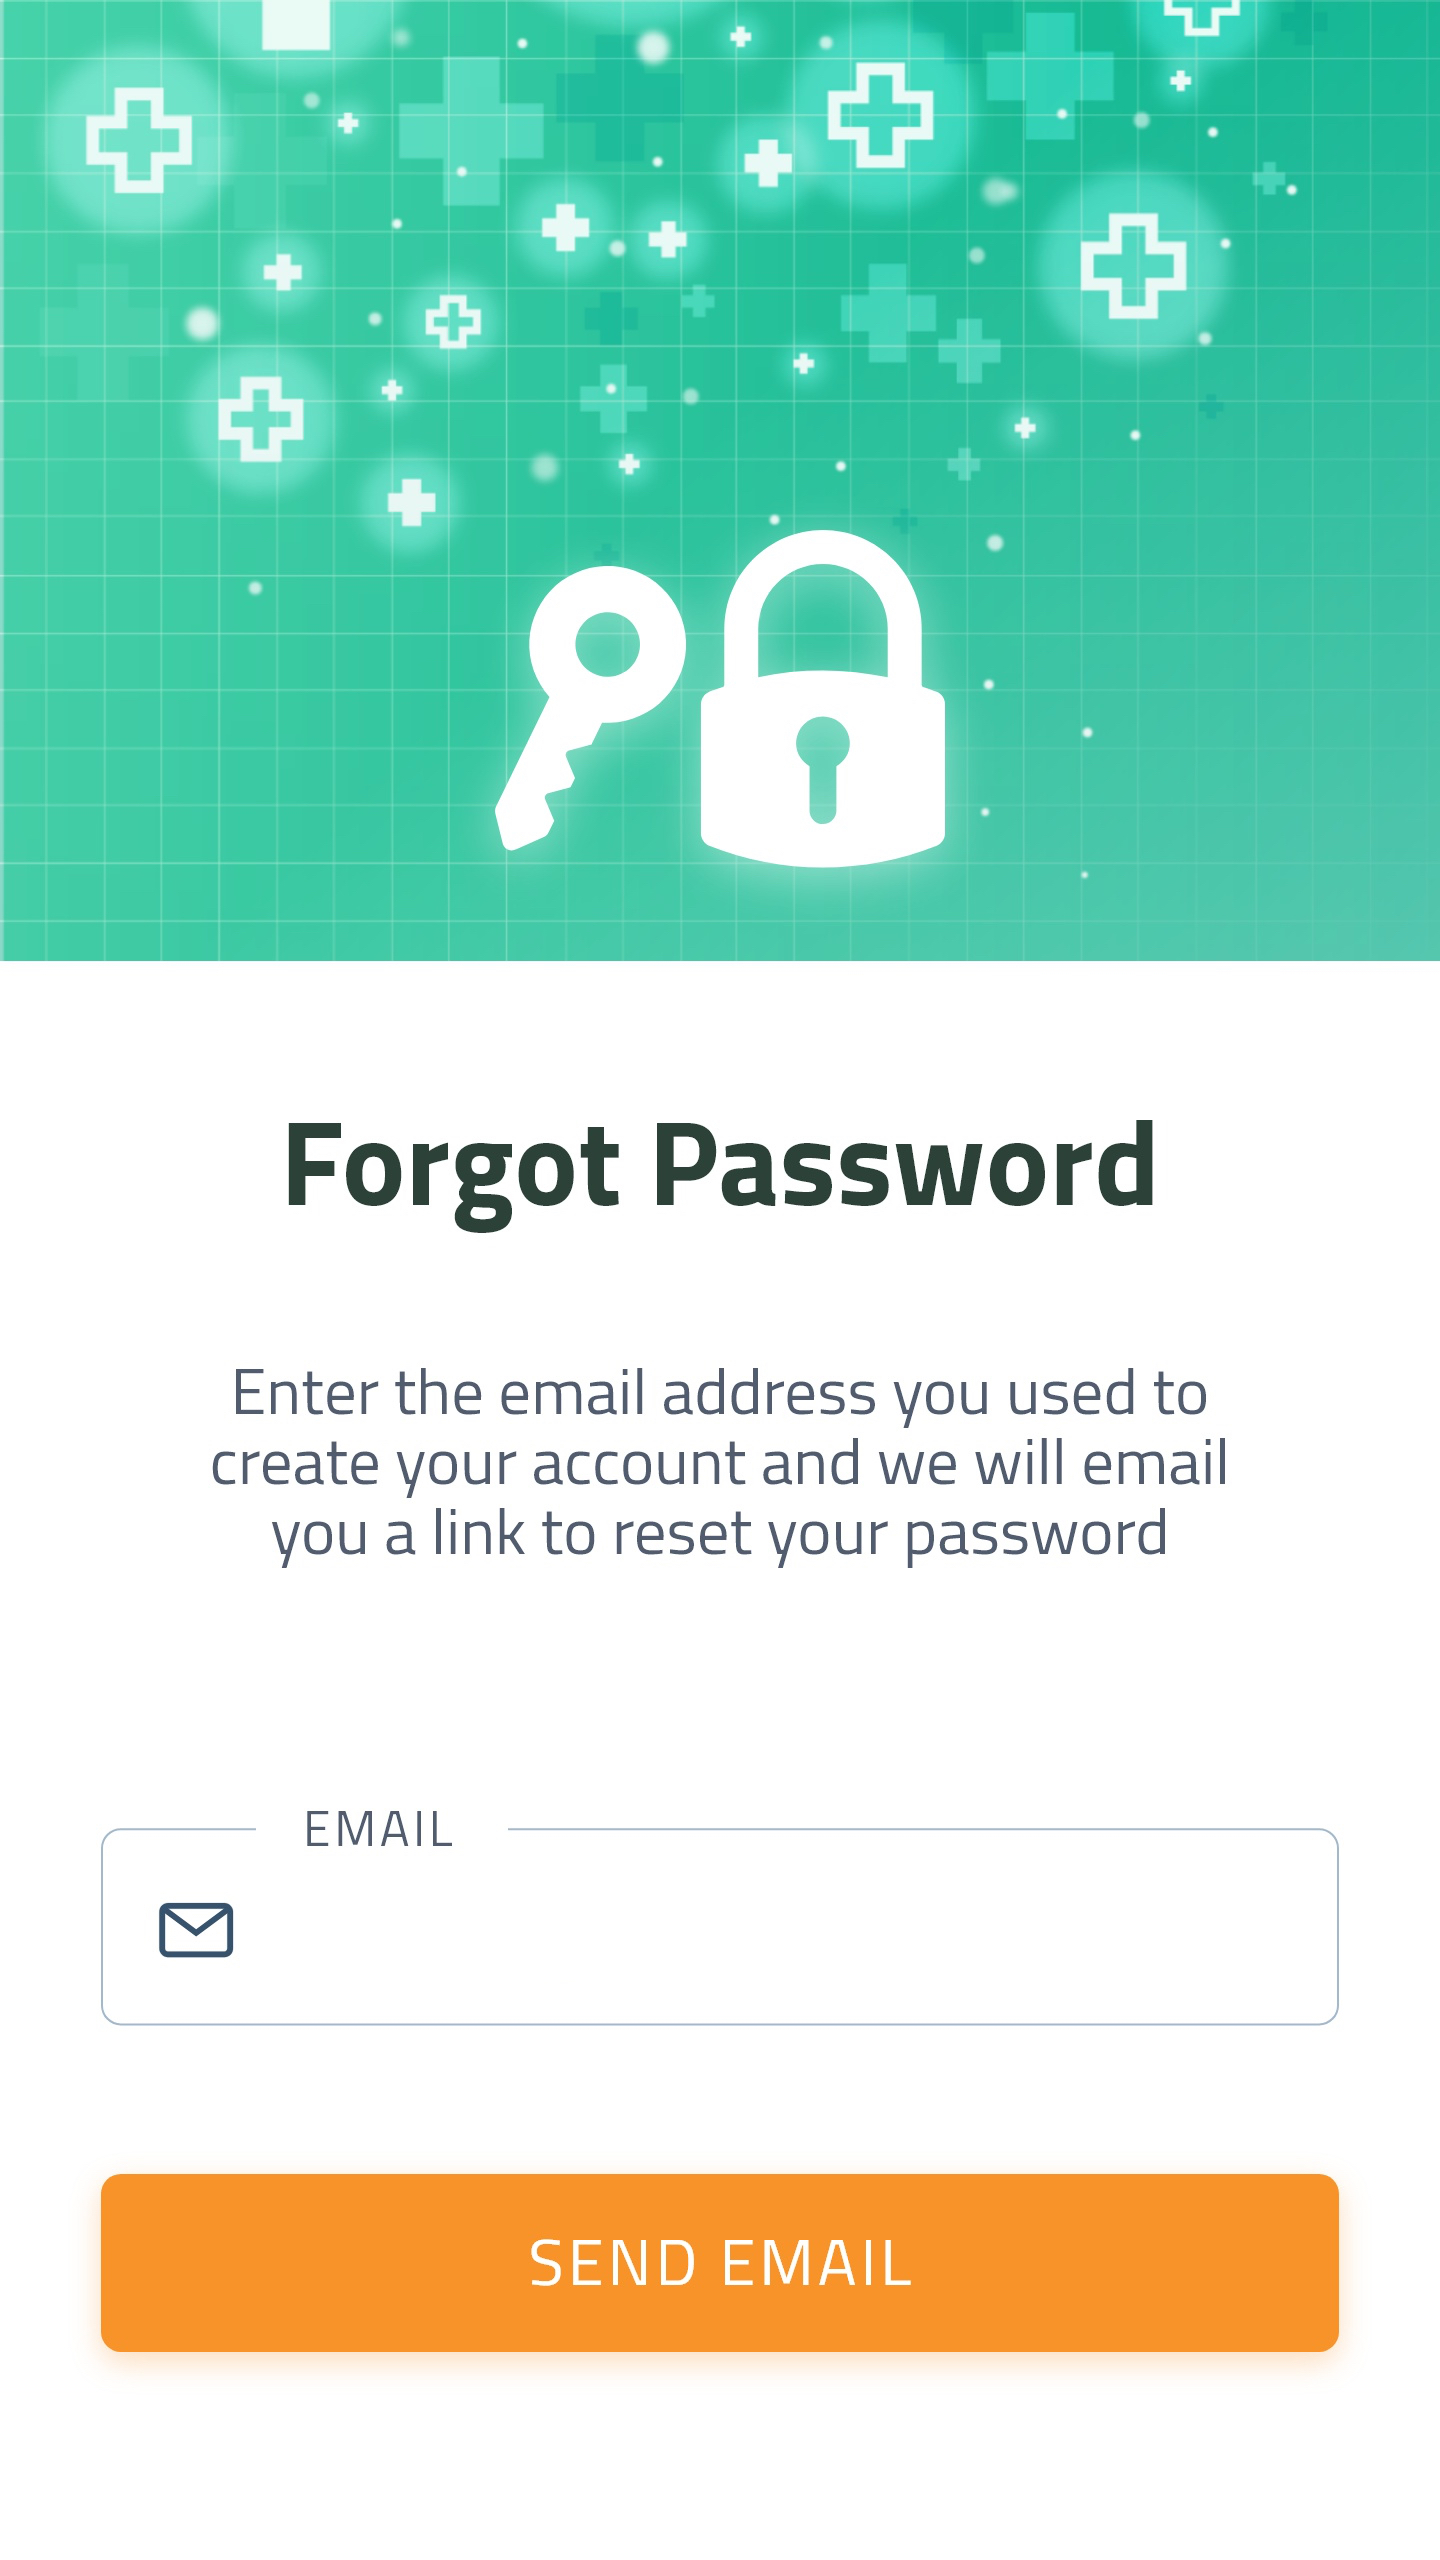EditText: (102, 1811, 1340, 2025)
Icon: (158, 1902, 236, 1959)
Image: (2, 2, 1440, 962)
Text: (213, 1368, 1225, 1568), (288, 1120, 1153, 1234), (308, 1811, 454, 1846)
TextButton: (100, 2173, 1340, 2353)
